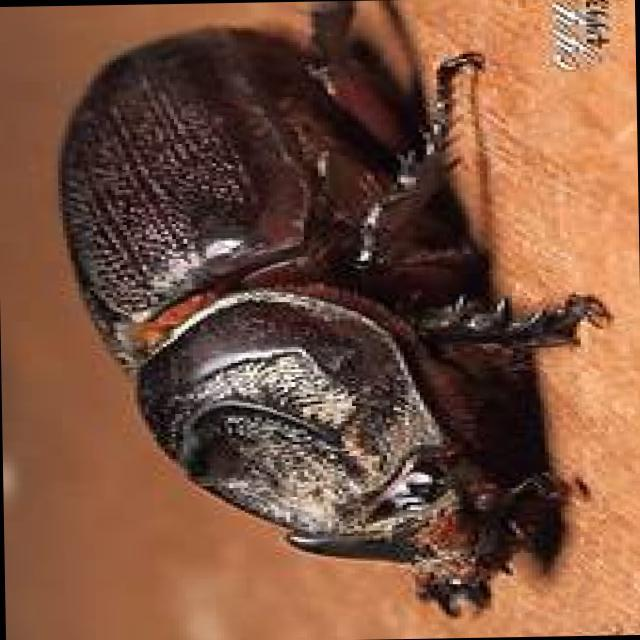Rhino-beetle: (42, 35, 578, 602)
